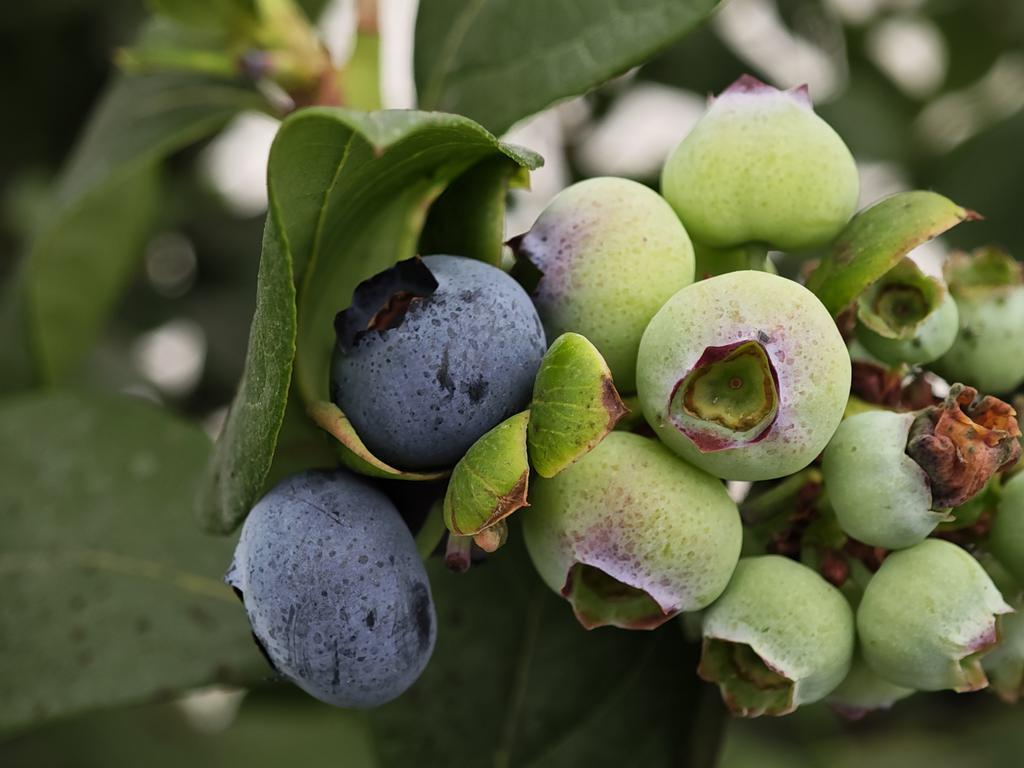RipeBlueBerry: (238, 467, 437, 696), (334, 253, 536, 457)
UnripeBlueBerry: (638, 271, 853, 482), (530, 431, 738, 622), (668, 82, 859, 246)
